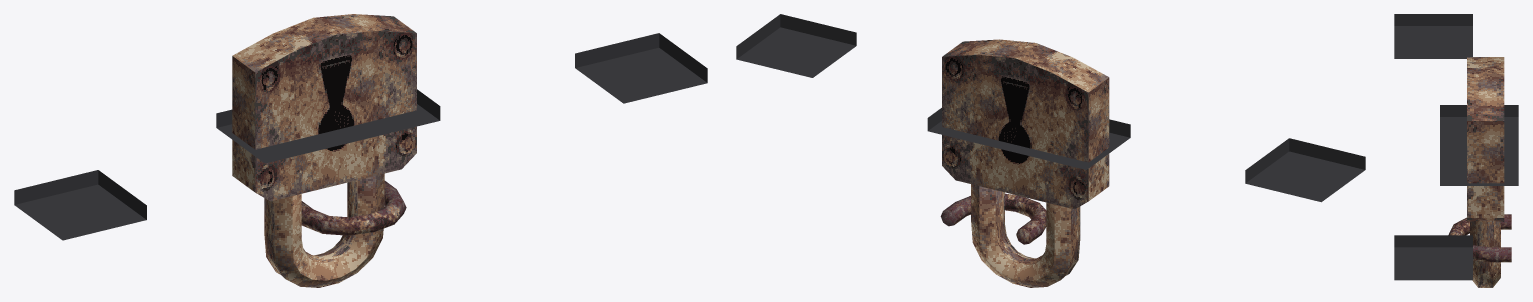
File: Mom_Restraint.glb
3 views of the same model, side by side, from view 1: azimuth 30°, elevation 25°; view 2: azimuth 150°, elevation 25°; view 3: azimuth 270°, elevation 25° (orthographic). The views are drawn at different scales.
Parts seen in each view (by area): view 1: LockRect, NeckPlate_L, NeckPlate_R, NeckPlate_Top; view 2: LockRect, NeckPlate_L, NeckPlate_R, NeckPlate_Top; view 3: LockRect, NeckPlate_R, NeckPlate_L, NeckPlate_Top.
Boxes of the visible parts, x1,y1,x2,y2 form: LockRect: [232, 14, 416, 287]; NeckPlate_L: [14, 170, 146, 240]; NeckPlate_R: [575, 33, 707, 103]; NeckPlate_Top: [216, 89, 440, 163]; LockRect: [940, 39, 1109, 287]; NeckPlate_L: [1245, 138, 1365, 202]; NeckPlate_R: [736, 14, 856, 77]; NeckPlate_Top: [927, 108, 1130, 169]; LockRect: [1448, 57, 1511, 287]; NeckPlate_R: [1394, 235, 1472, 280]; NeckPlate_L: [1394, 14, 1472, 58]; NeckPlate_Top: [1440, 105, 1518, 185].
Size of the model in its own units: 0.3681 by 0.14 by 0.076.
Materials: 2 (1 with a texture image).
